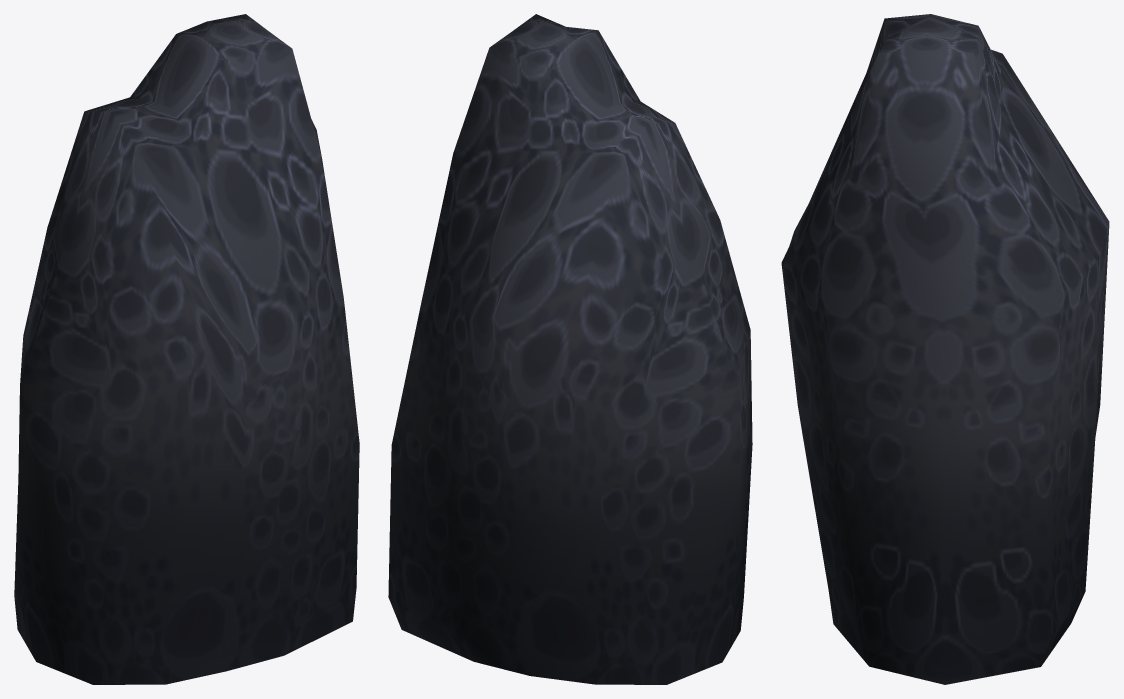
Rendered from Rock_02c.FBX.
The picture shows the model from 3 angles, left to right: view 1: azimuth 30°, elevation 25°; view 2: azimuth 150°, elevation 25°; view 3: azimuth 270°, elevation 25°; orthographic projection. The views are drawn at different scales.
Parts seen in each view (by area): view 1: Rock_02c; view 2: Rock_02c; view 3: Rock_02c.
Boxes of the visible parts, <box> form: Rock_02c: <box>14,14,359,684</box>; Rock_02c: <box>388,14,752,684</box>; Rock_02c: <box>781,14,1109,684</box>.
Size of the model in its own units: 76.97 by 131 by 65.08.
